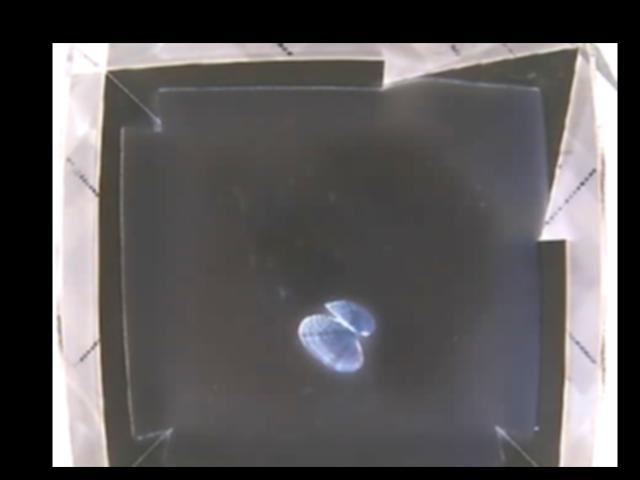Shell: (298, 302, 374, 370)
